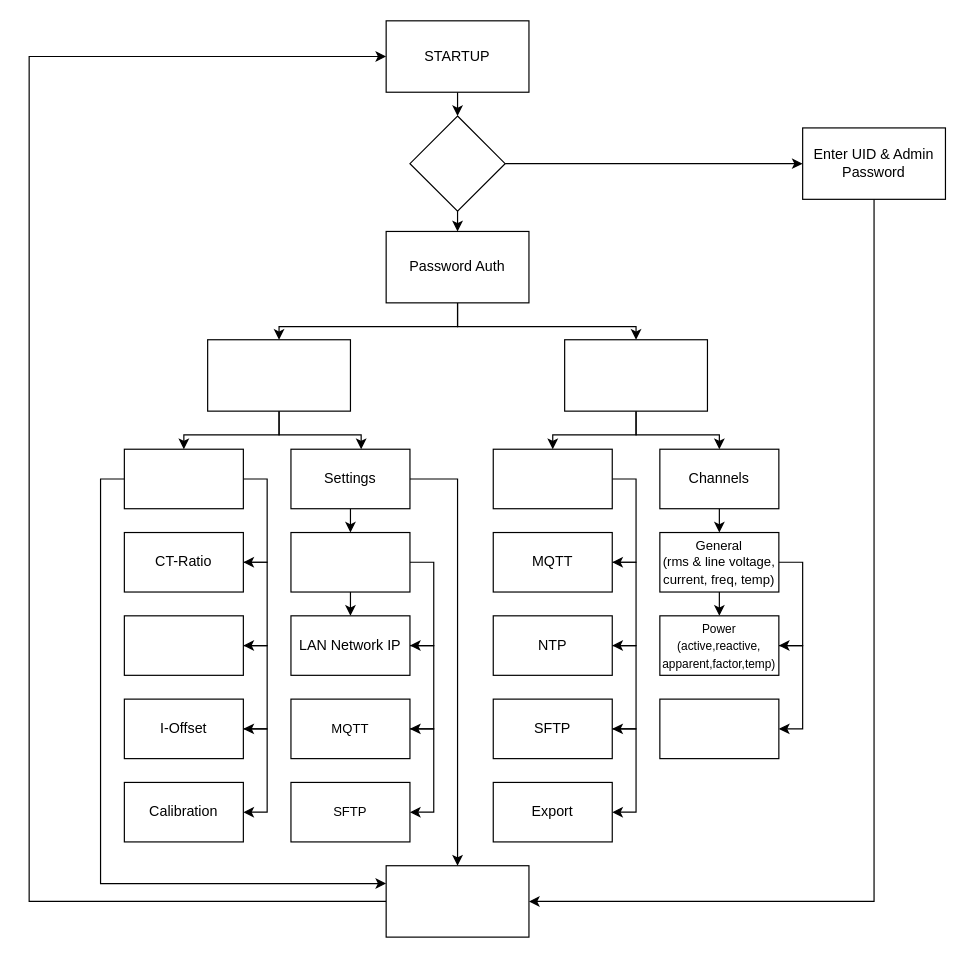
The diagram is 966 pixels wide and 958 high, and some of its shapes have lost their labels. The box of each missing label's shape, as (x1, y1, x2, y2) in pixels:
Admin: (563, 339, 707, 411)
Device Info: (492, 448, 612, 509)
Energy (pos,neg, bidirectional,temp): (659, 698, 779, 759)
Factory: (206, 339, 350, 411)
If UID Found: (409, 115, 505, 211)
Measurements: (123, 448, 243, 509)
Network: (290, 531, 410, 592)
REBOOT: (385, 865, 529, 937)
V-Offset: (123, 615, 243, 675)
